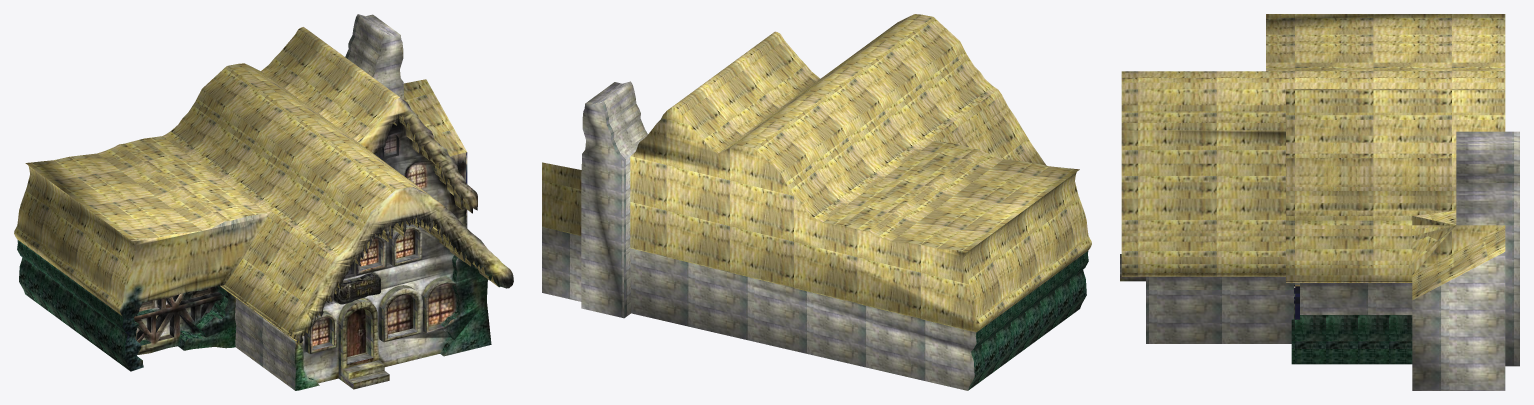
Rendered from sin.dae.
The picture shows the model from 3 angles, left to right: view 1: azimuth 30°, elevation 25°; view 2: azimuth 150°, elevation 25°; view 3: azimuth 270°, elevation 25°; orthographic projection. The views are drawn at different scales.
Parts seen in each view (by area): view 1: Model; view 2: Model; view 3: Model.
Boxes of the visible parts, x1,y1,x2,y2 form: Model: (14,14,513,390); Model: (542,14,1091,390); Model: (1120,14,1519,390).
Bounding box in the file's own units: 1533 × 1135 × 747.
